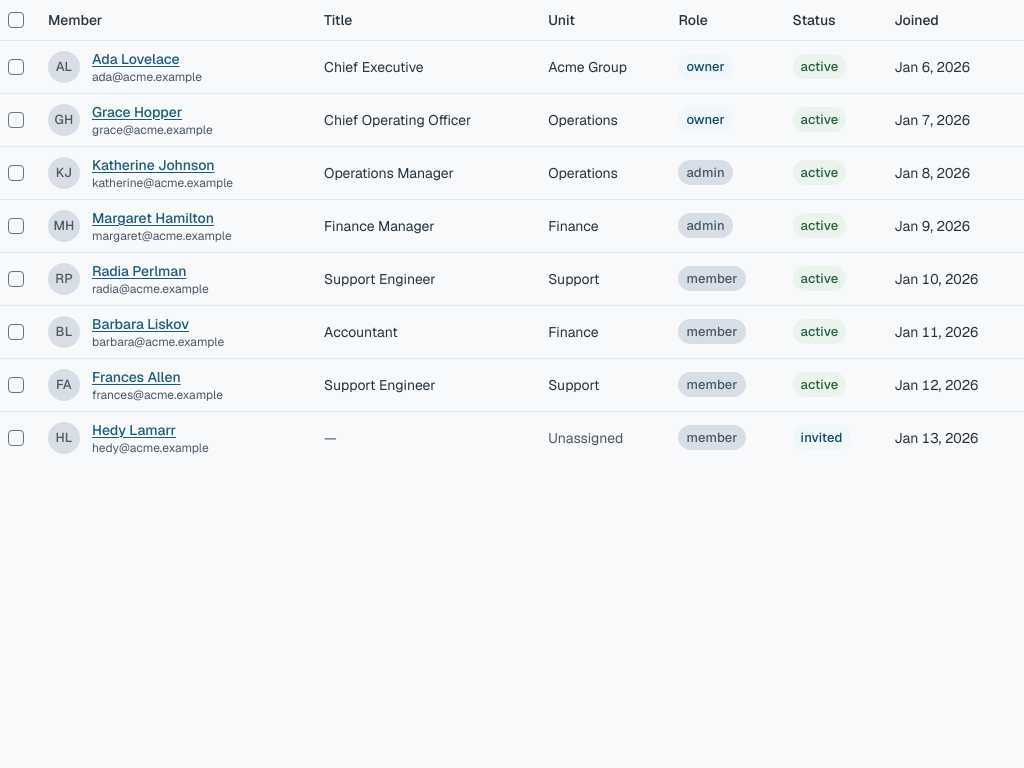
it: PeopleView › previews the bulk move and commits through the action
Click the checkbox named "Select Radia Perlman": [16, 278] box left=8, top=270, right=24, bottom=286
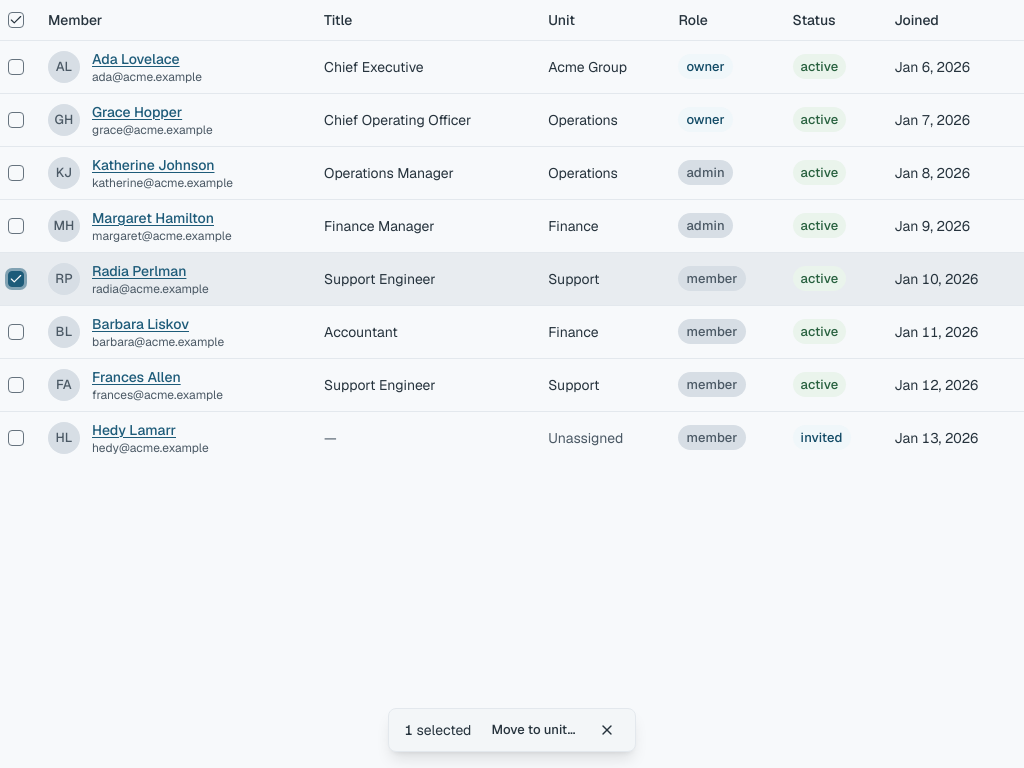
Click the checkbox named "Select Frances Allen": [16, 384] box left=8, top=376, right=24, bottom=392
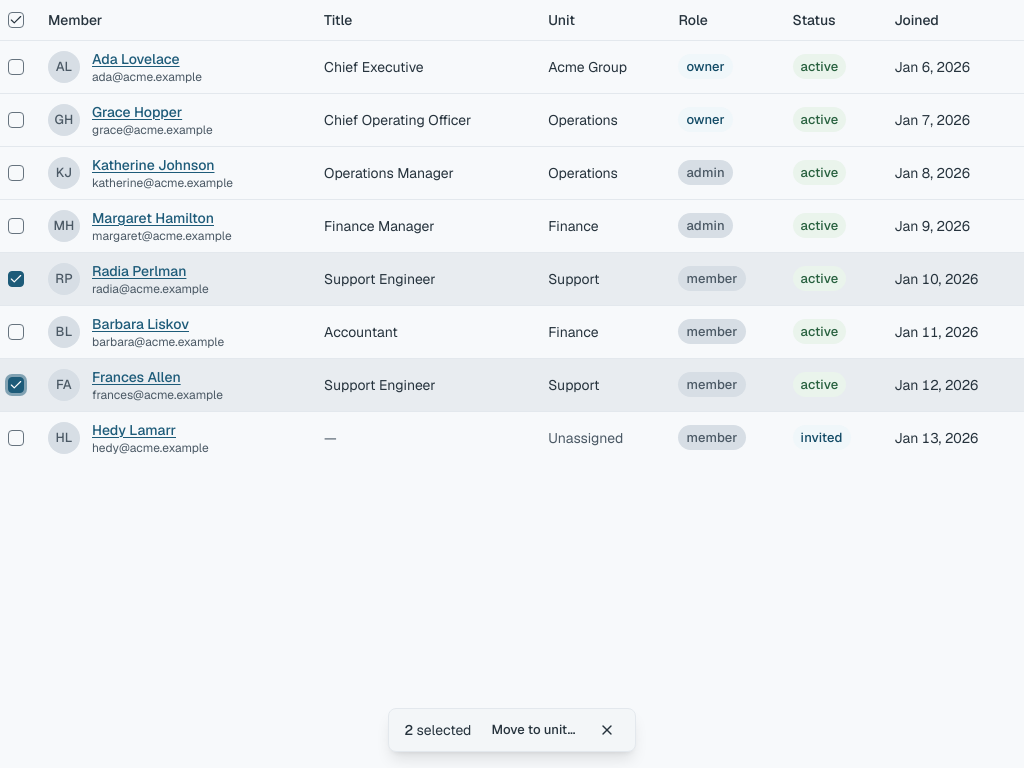
Click the button "Move to unit…": [534, 730] box left=484, top=718, right=584, bottom=743
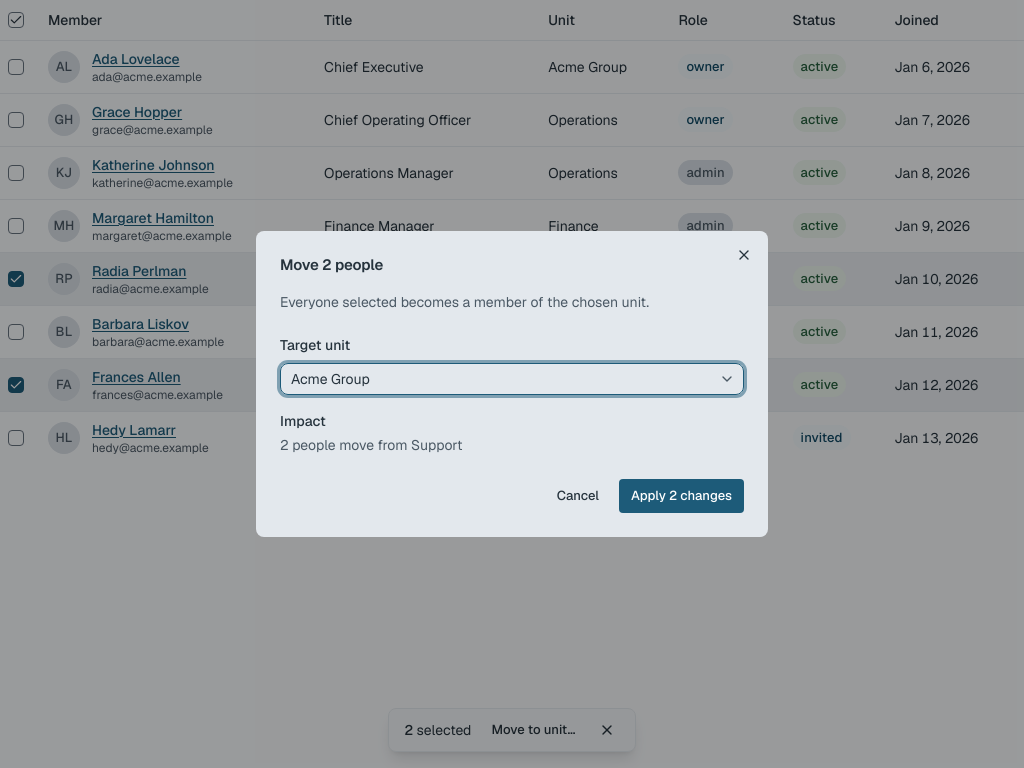
Expected: the heading "Move 2 people" is shown, left=280, top=255, right=383, bottom=274
Expected: the list item "2 people move from Support" is shown, left=280, top=436, right=462, bottom=454
Click the button "Apply 2 changes": [682, 496] box left=619, top=479, right=744, bottom=513
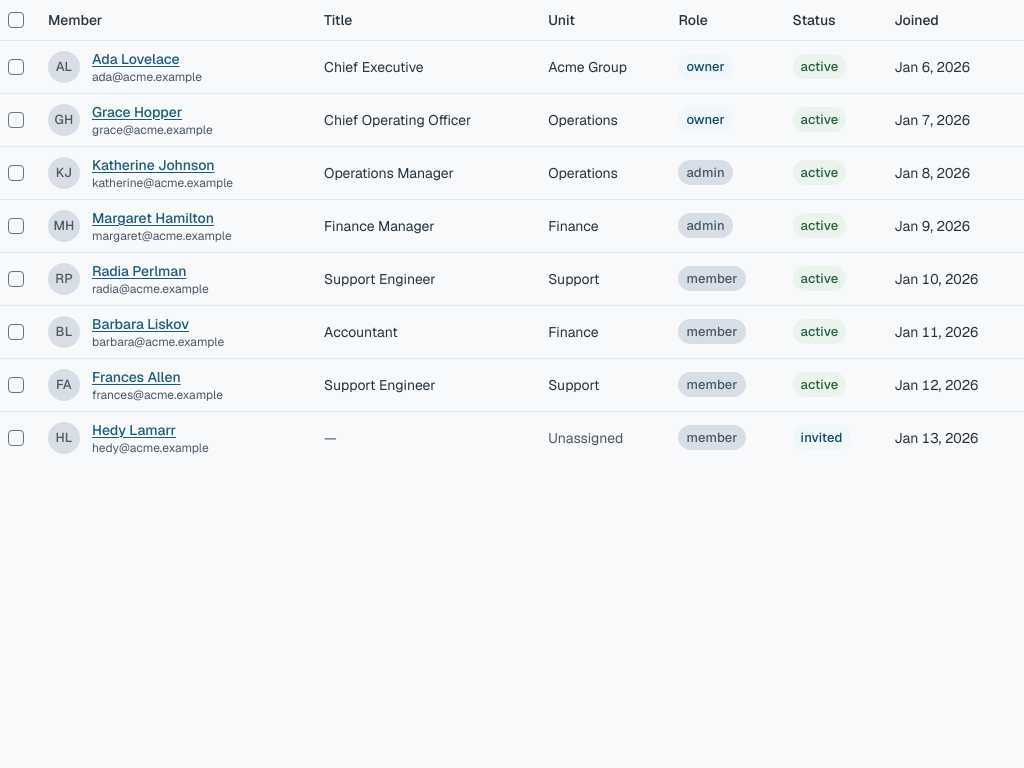
Expected: the button "Move to unit…" is gone
